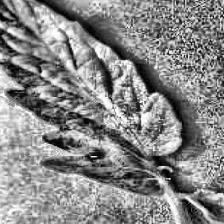leaf mold: (0, 0, 183, 196)
